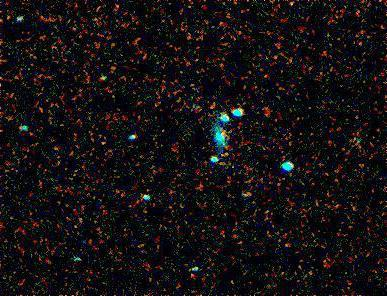star: (201, 117, 231, 147)
